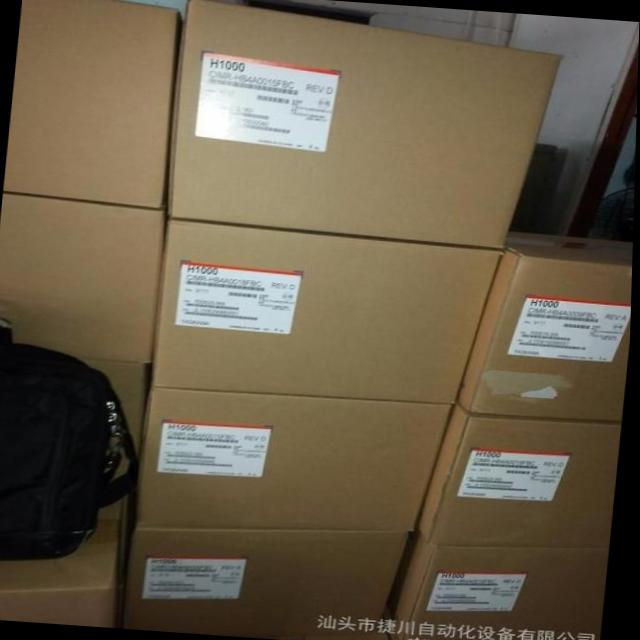box: (169, 0, 564, 251), (155, 217, 503, 405), (141, 388, 454, 534), (4, 0, 181, 207), (453, 232, 634, 422), (130, 524, 416, 634), (415, 406, 623, 551), (0, 195, 164, 361), (387, 532, 610, 640), (0, 521, 130, 626), (131, 627, 394, 640)
